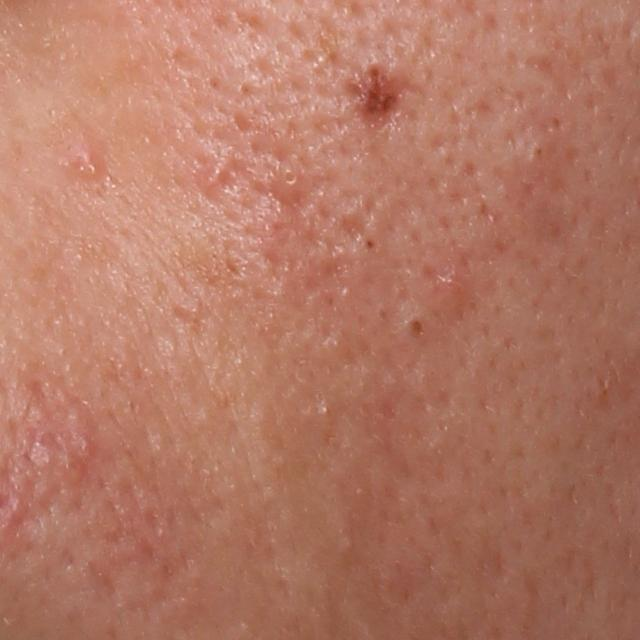atrophic_scar: (519, 27, 638, 111), (340, 209, 365, 249)
comedo: (408, 316, 427, 342), (363, 234, 379, 255)
nevus: (337, 53, 422, 132)
papule: (70, 146, 105, 179)
